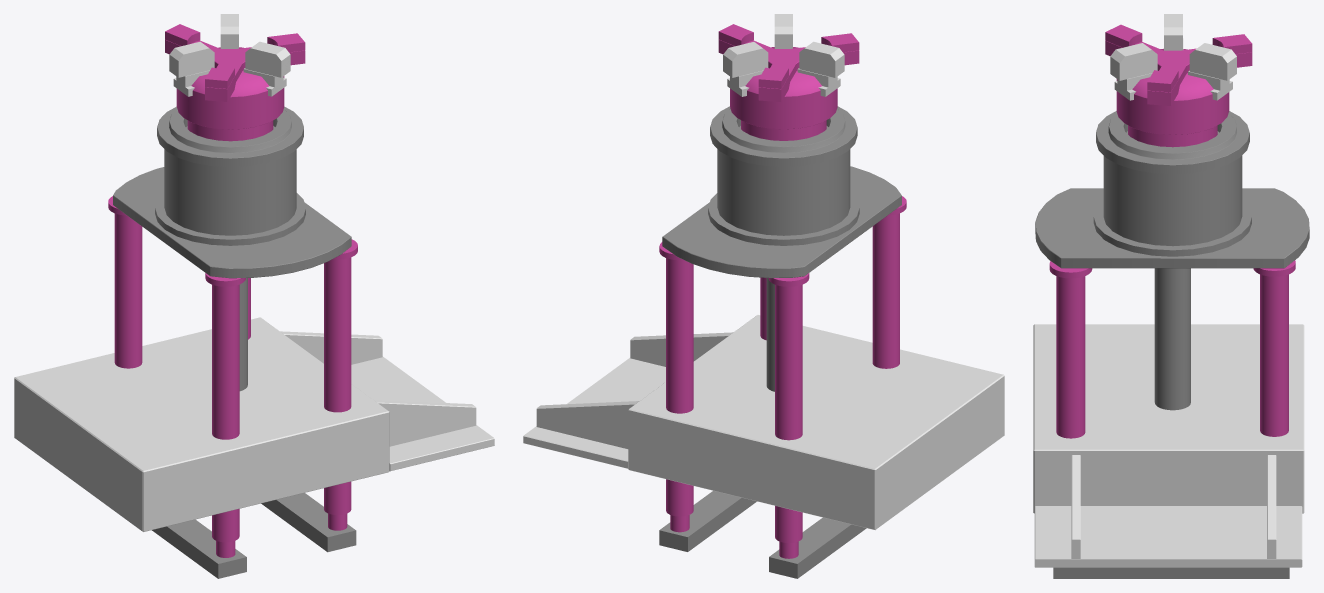
File: Laser.FBX
The picture shows the model from 3 angles, left to right: view 1: azimuth 30°, elevation 25°; view 2: azimuth 150°, elevation 25°; view 3: azimuth 270°, elevation 25°; orthographic projection. The views are drawn at different scales.
Visible parts, largest first — view 1: Laser_Base, Laser_Head, JawA, JawB, JawC; view 2: Laser_Base, Laser_Head, JawB, JawC, JawA; view 3: Laser_Base, Laser_Head, JawC, JawA, JawB.
Part boxes in pixels (x1,y1,x2,y2): Laser_Base: (14,317,494,531); Laser_Head: (108,24,357,578); JawA: (243,41,290,96); JawB: (169,41,214,96); JawC: (220,14,238,48); Laser_Base: (523,315,1004,529); Laser_Head: (659,24,906,578); JawB: (797,41,844,96); JawC: (723,42,768,96); JawA: (774,14,792,48); Laser_Base: (1033,324,1304,567); Laser_Head: (1035,24,1309,578); JawC: (1188,43,1236,100); JawA: (1110,43,1157,100); JawB: (1164,14,1183,50).
Size of the model in its own units: 68.93 by 44.71 by 89.97.
